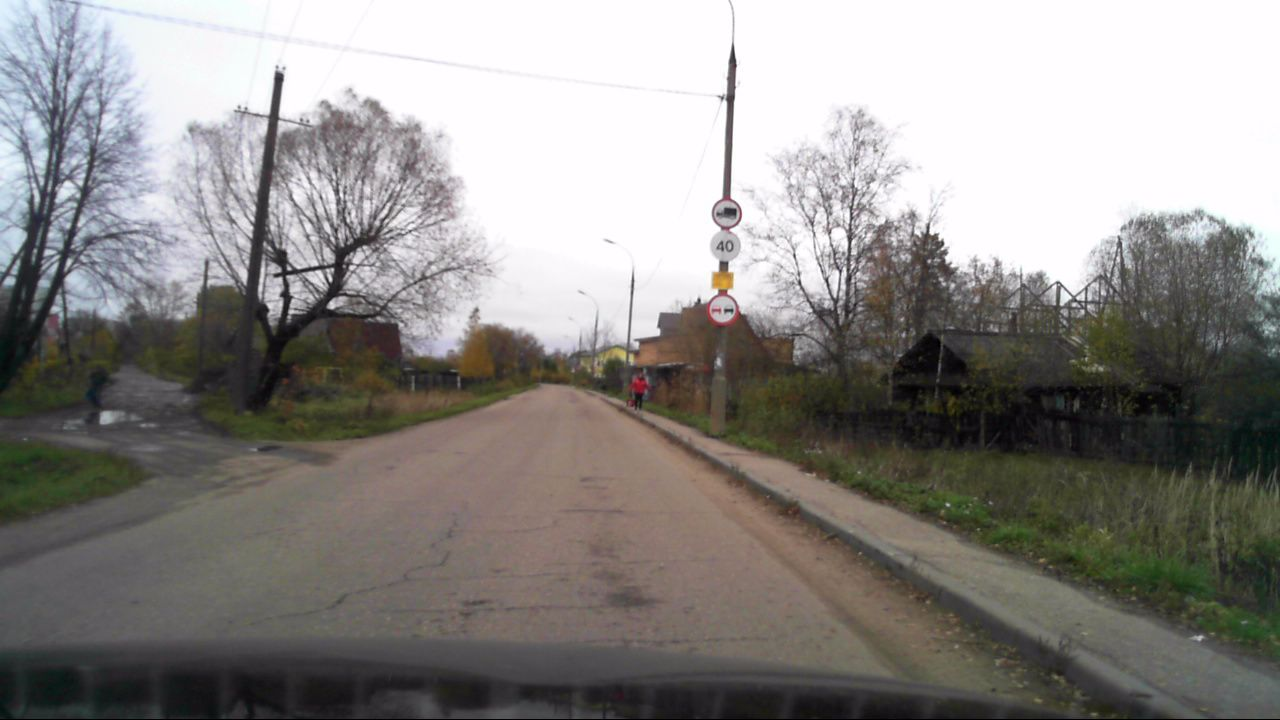speed_warning_40: (708, 230, 741, 261)
